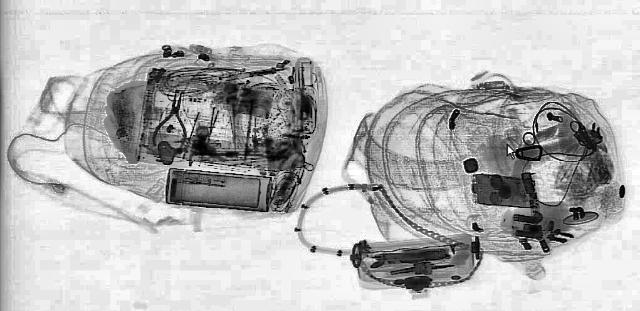Pliers: (149, 88, 195, 150)
